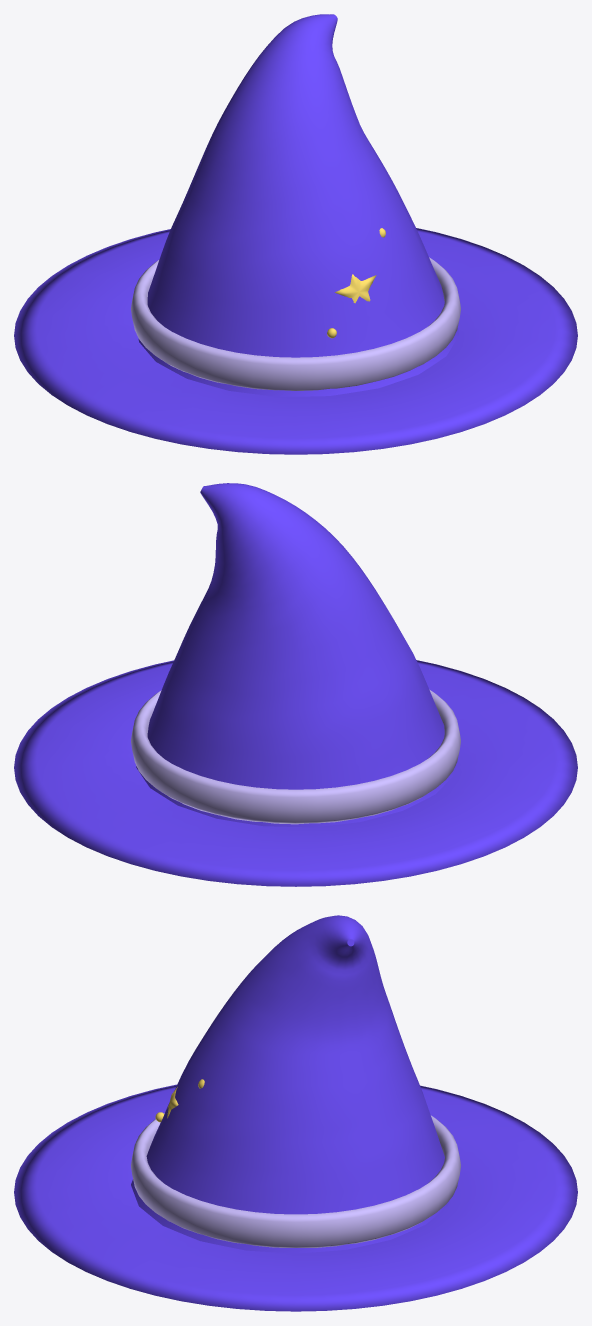
Rendered from hat-wizard.glb.
The picture shows the model from 3 angles, top to bottom: view 1: azimuth 30°, elevation 25°; view 2: azimuth 150°, elevation 25°; view 3: azimuth 270°, elevation 25°; orthographic projection.
Parts seen in each view (by area): view 1: hat-wizard-mesh; view 2: hat-wizard-mesh; view 3: hat-wizard-mesh.
Boxes of the visible parts, x1,y1,x2,y2 form: hat-wizard-mesh: [14, 14, 577, 454]; hat-wizard-mesh: [14, 483, 577, 886]; hat-wizard-mesh: [14, 915, 577, 1311].
Bounding box in the file's own units: 3.08 × 1.85 × 3.08.
